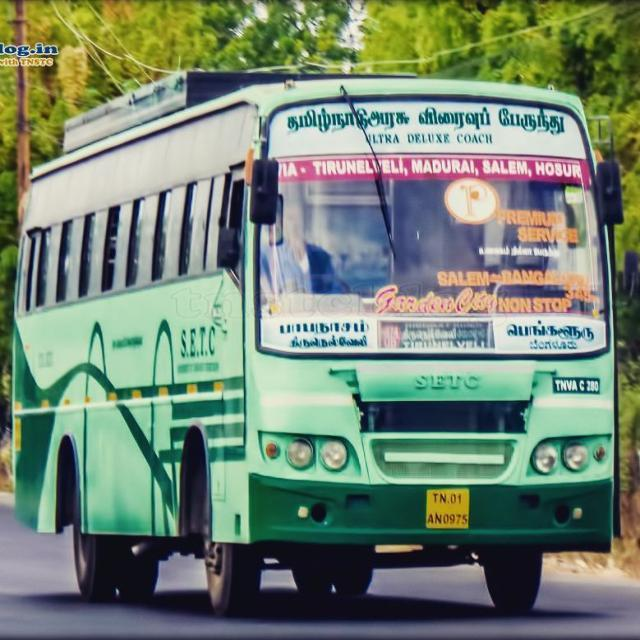Bus: (12, 62, 640, 612)
